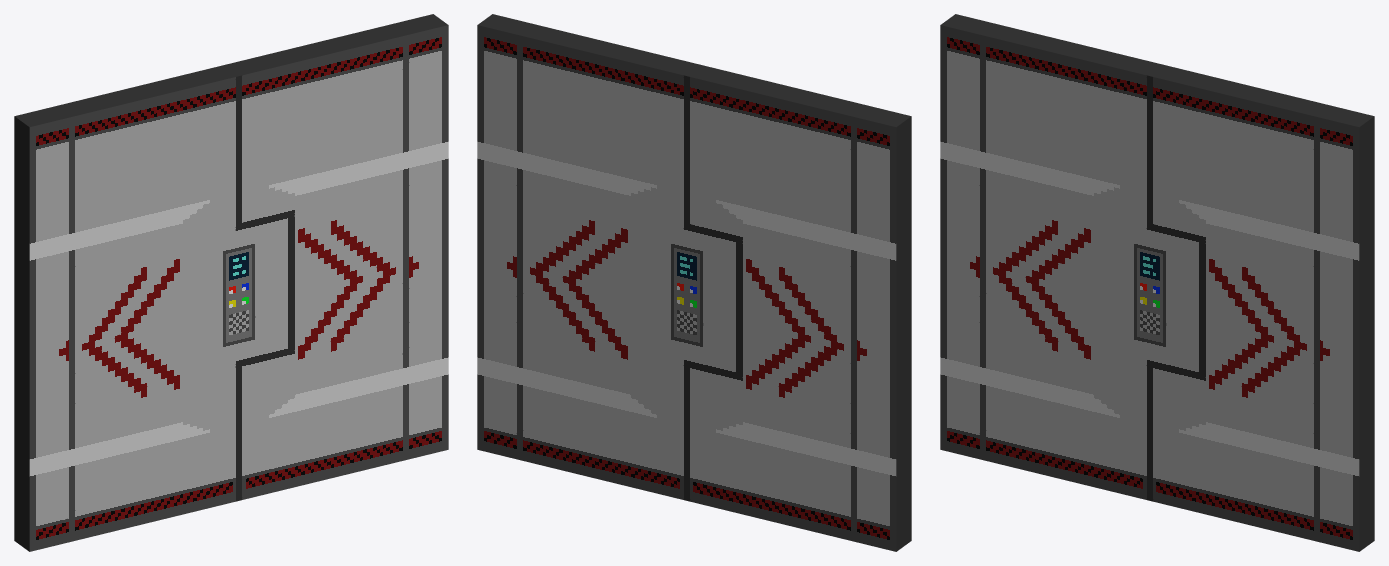
File: ShipDoorNew.gltf
3 views of the same model, side by side, from view 1: azimuth 30°, elevation 25°; view 2: azimuth 150°, elevation 25°; view 3: azimuth 330°, elevation 25° (orthographic).
Visible parts, largest first — view 1: mesh (×2); view 2: mesh (×2); view 3: mesh (×2).
Part boxes in pixels (x1,y1,x2,y2): mesh (×2): [14, 14, 448, 551]; mesh (×2): [477, 14, 911, 551]; mesh (×2): [940, 14, 1374, 551].
Bounding box in the file's own units: 2 × 1.94 × 0.125.
1 material, 1 textured.
